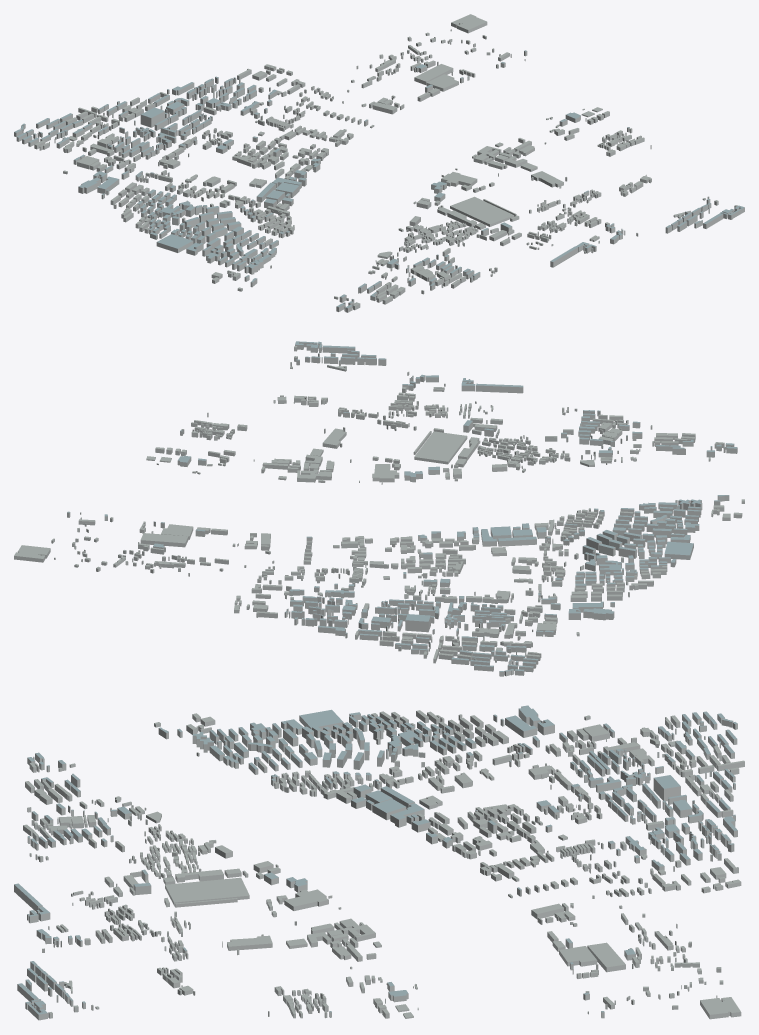
The picture shows the model from 3 angles, top to bottom: view 1: azimuth 30°, elevation 25°; view 2: azimuth 150°, elevation 25°; view 3: azimuth 270°, elevation 25°; orthographic projection. The views are drawn at different scales.
Parts seen in each view (by area): view 1: 上海全域建筑分块 · mapped building neighborhood; view 2: 上海全域建筑分块 · mapped building neighborhood; view 3: 上海全域建筑分块 · mapped building neighborhood.
Part boxes in pixels (bbox=[...]): 上海全域建筑分块 · mapped building neighborhood: bbox=[14, 14, 744, 312]; 上海全域建筑分块 · mapped building neighborhood: bbox=[14, 341, 744, 676]; 上海全域建筑分块 · mapped building neighborhood: bbox=[14, 705, 744, 1020].
Size of the model in its own units: 2154 by 41.77 by 2164.
